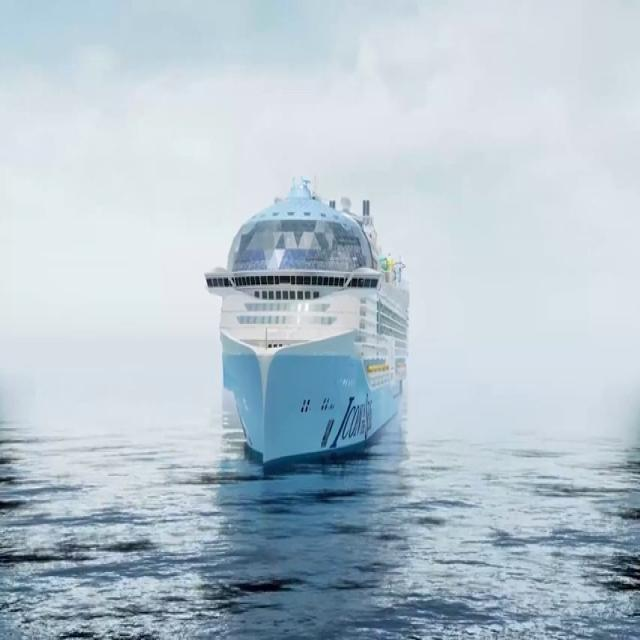passenger ship: (200, 169, 418, 461)
